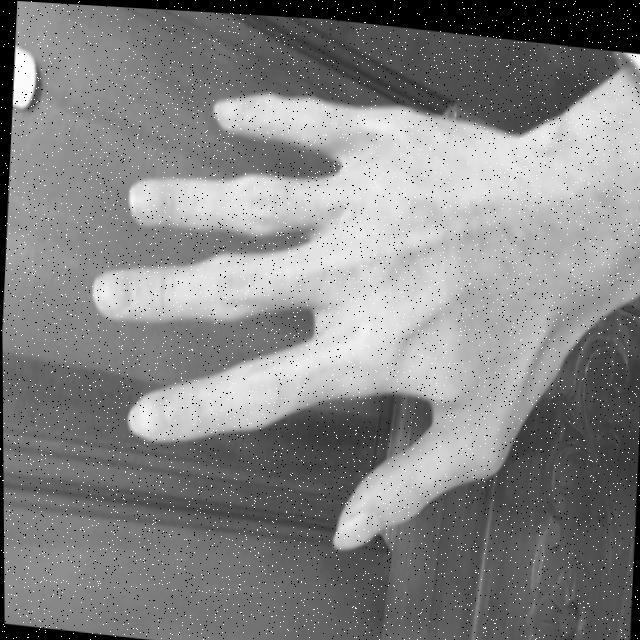no-gloves: (76, 64, 545, 569)
